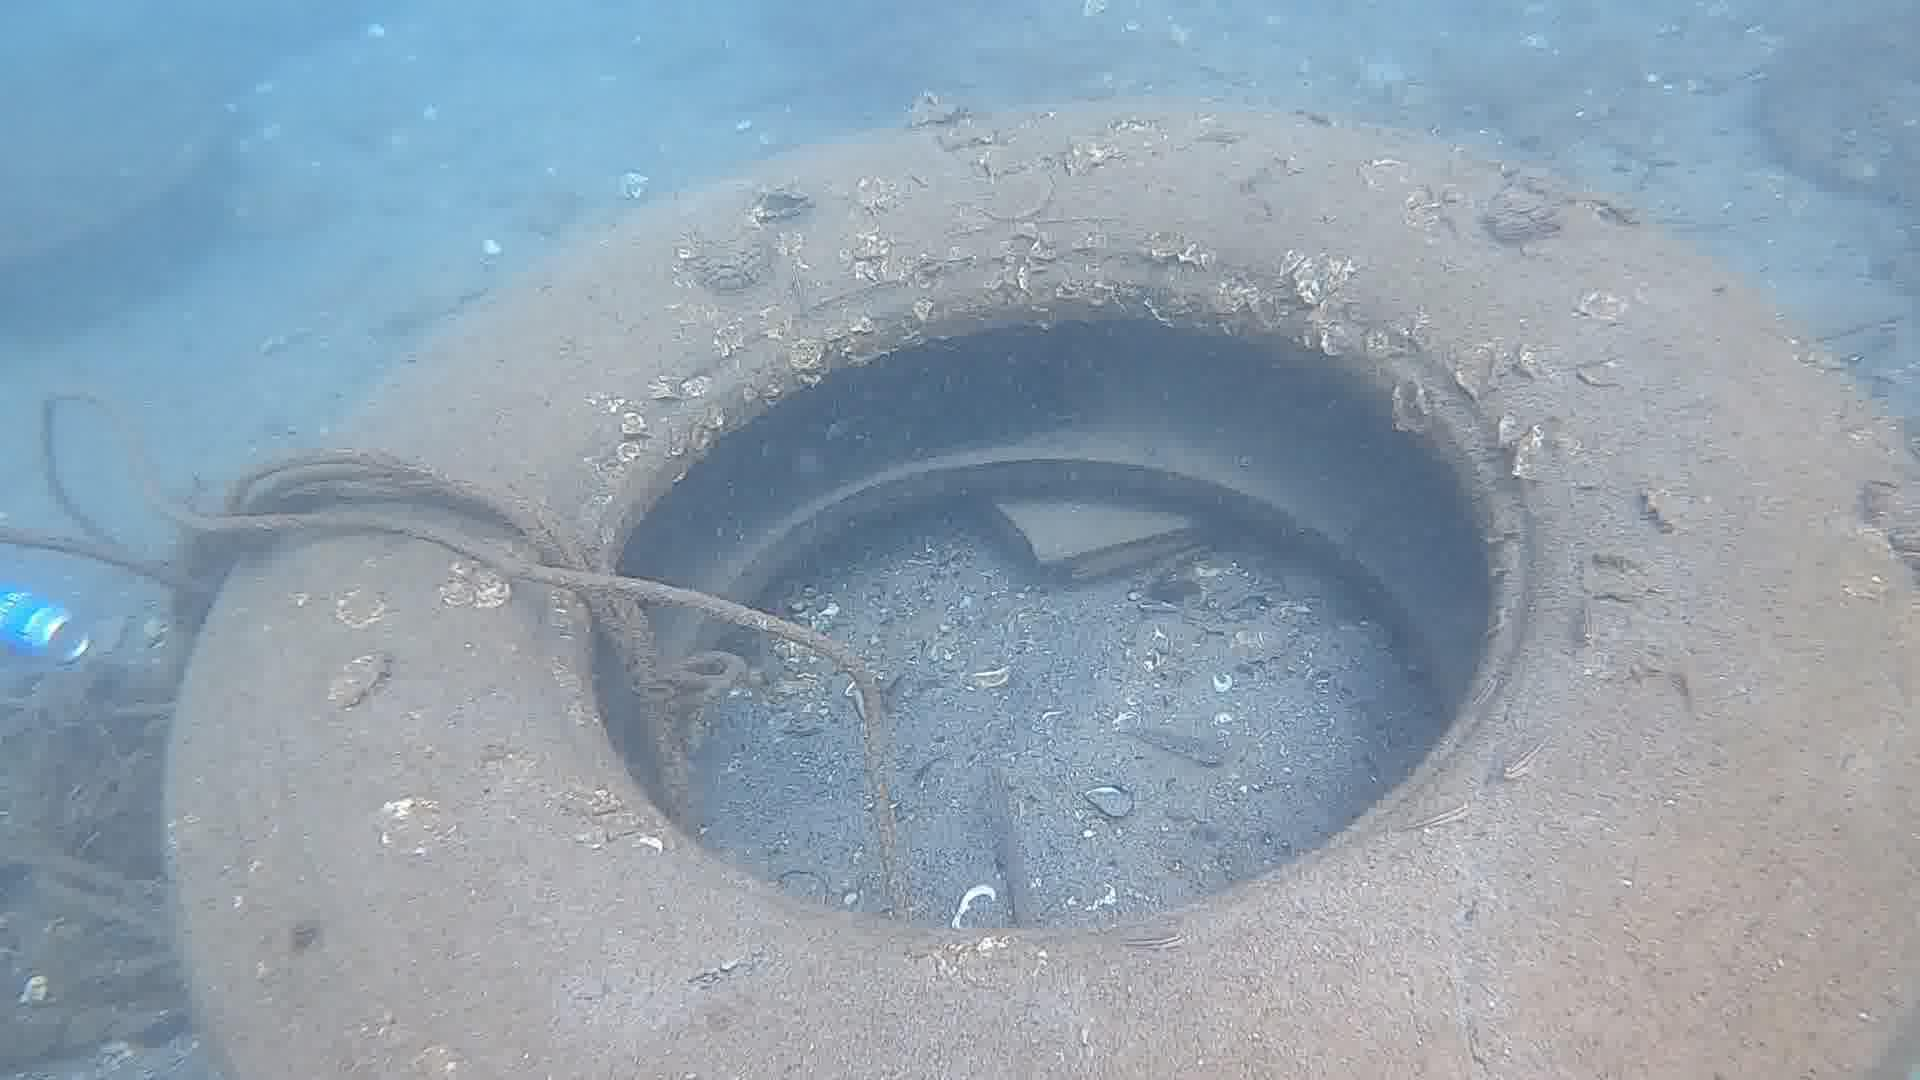bundle of ropes: (0, 388, 915, 942)
tire: (162, 94, 1920, 1080)
